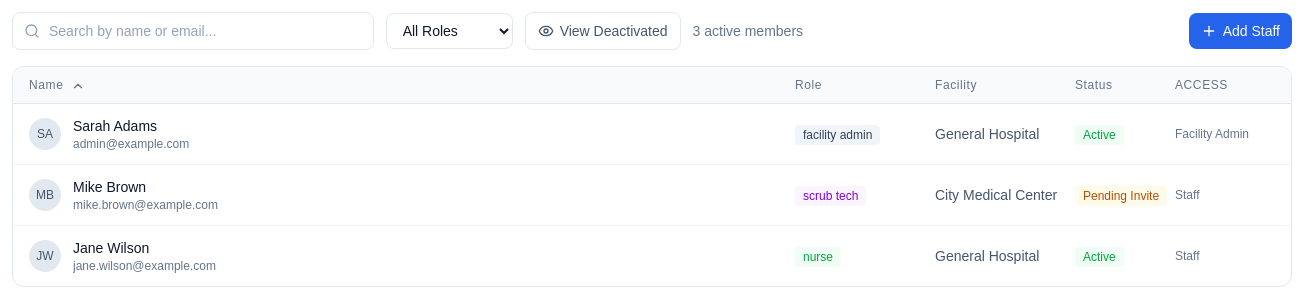
Test case: StaffDirectoryTab › all facilities mode › search works in all-facilities mode
The width and height of the screenshot is (1304, 304).
Type "Mike" into the field with placeholder "Search by name or email...".
click(193, 31); type("Mike")  # box x1=12 y1=12 x2=374 y2=50
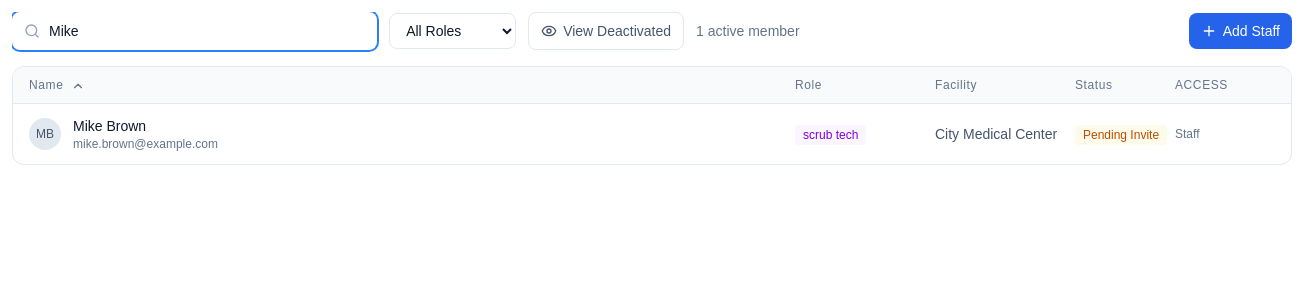
Expected: the text "Mike Brown" is shown, x1=73 y1=118 x2=146 y2=134
Expected: the text "Jane Wilson" is gone
